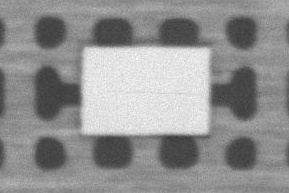DIE_CRACK: (163, 61, 289, 63)
